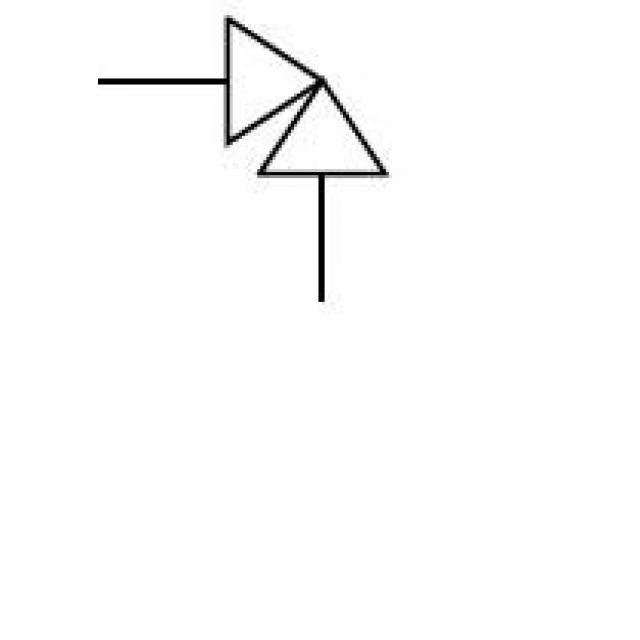Angle Valve: (168, 6, 430, 247)
